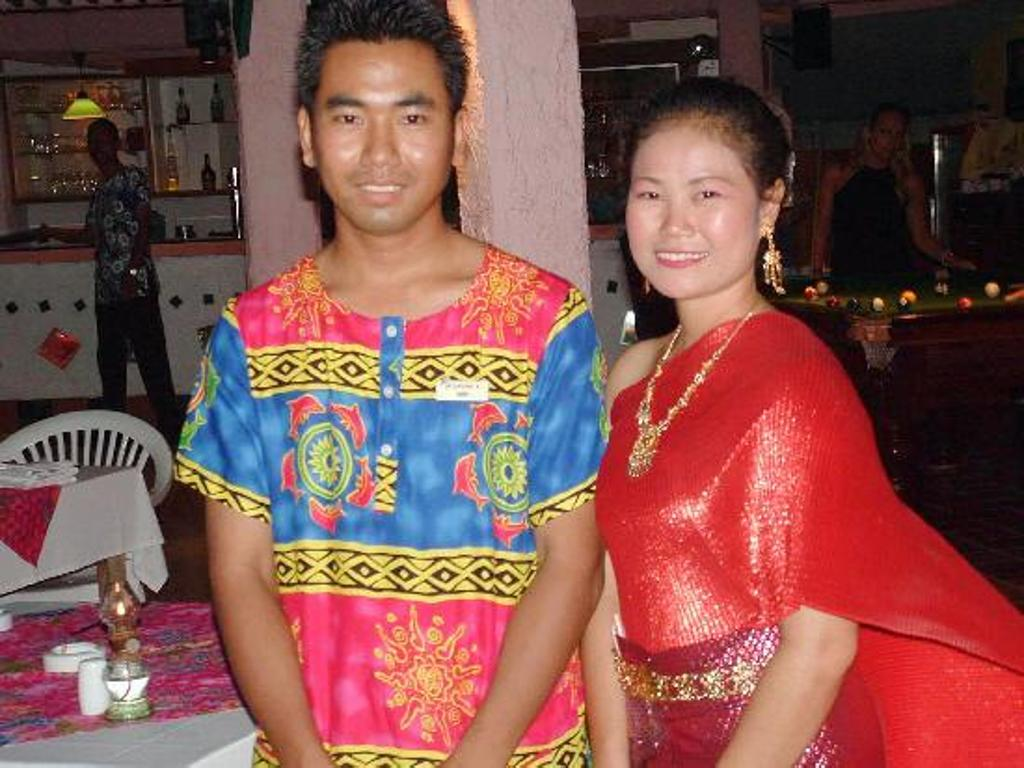face: (315, 66, 451, 234), (626, 156, 757, 300), (876, 116, 901, 160), (87, 137, 112, 164)
